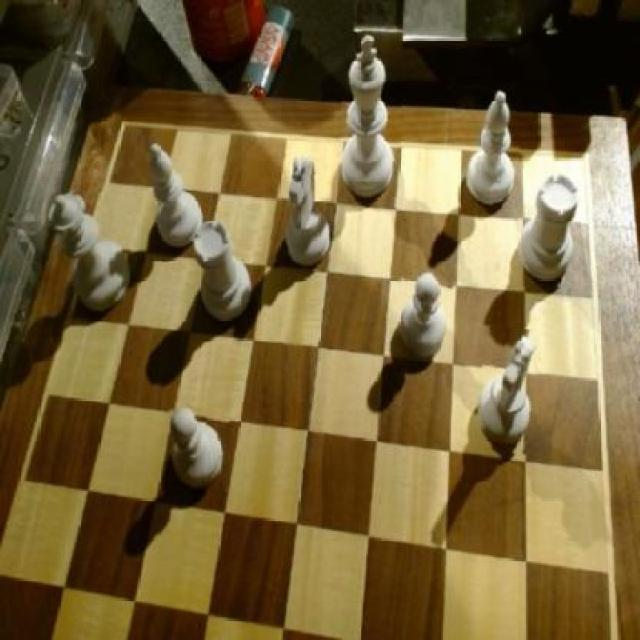black-rook: (465, 88, 519, 210), (146, 137, 202, 249)
white-bishop: (338, 34, 402, 208)
white-king: (477, 328, 538, 454), (280, 156, 333, 272)
white-knight: (168, 397, 232, 490), (397, 268, 452, 359)
white-pawn: (48, 192, 133, 318)
white-queen: (520, 170, 583, 288), (191, 222, 261, 324)
